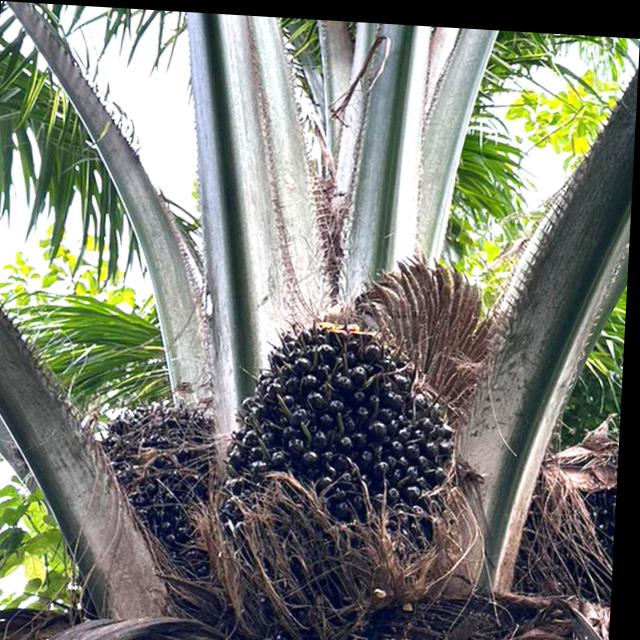almost: (226, 315, 469, 570)
